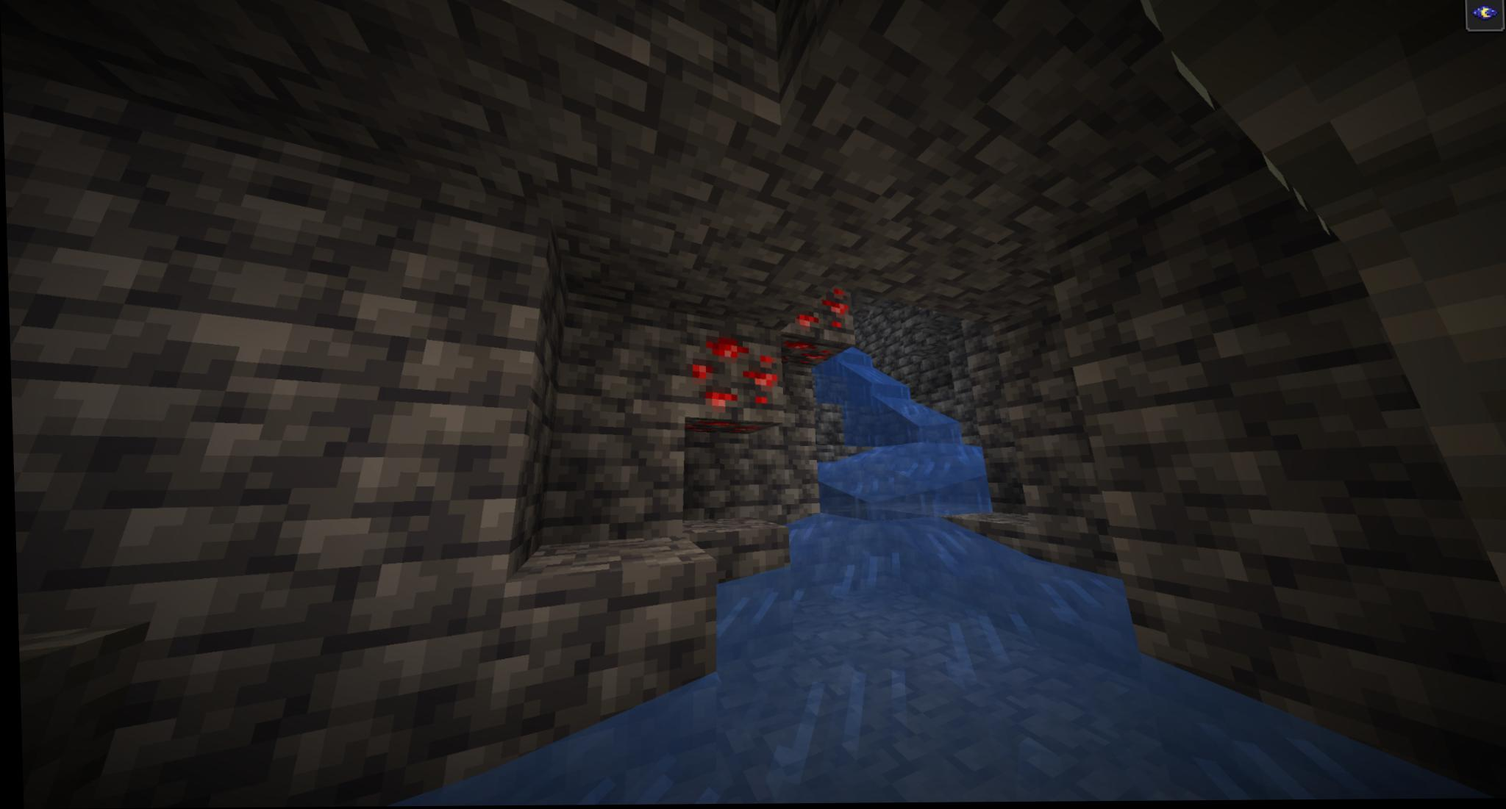redstone ore: (671, 323, 776, 447), (784, 286, 851, 372)
